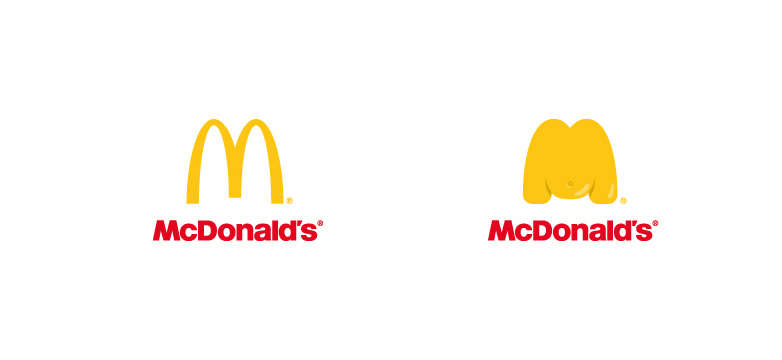mcdonalds: (179, 115, 295, 207)
